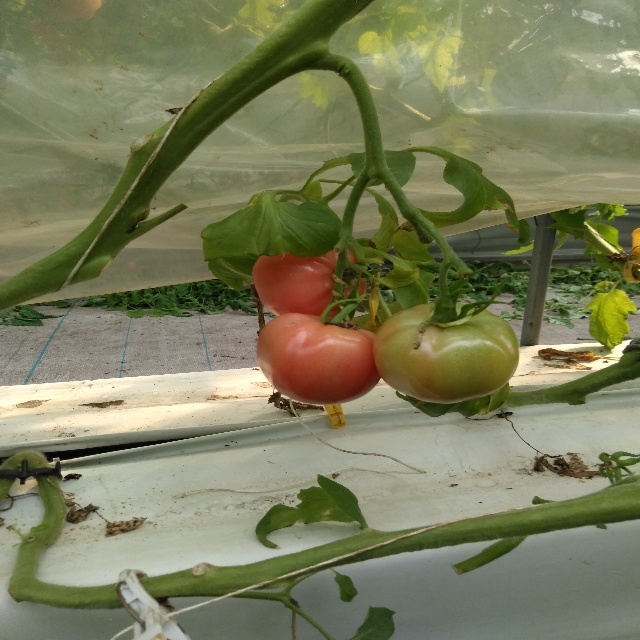b_fully_ripened: (256, 313, 382, 405), (252, 246, 366, 321)
b_half_ripened: (373, 302, 519, 404)
